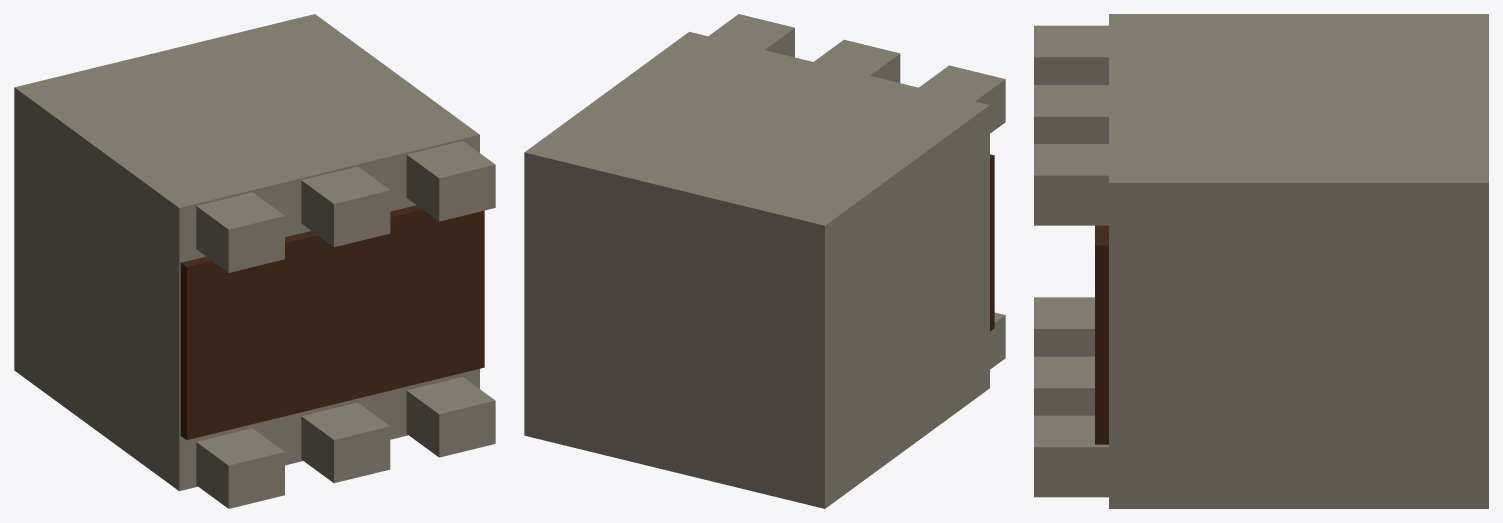
The model's file is SM_StoneWall.obj.
3 views of the same model, side by side, from view 1: azimuth 30°, elevation 25°; view 2: azimuth 150°, elevation 25°; view 3: azimuth 270°, elevation 25° (orthographic). The views are drawn at different scales.
Visible parts, largest first — view 1: SM_StoneWall; view 2: SM_StoneWall; view 3: SM_StoneWall.
Boxes of the visible parts, <box> form: SM_StoneWall: <box>14,14,495,508</box>; SM_StoneWall: <box>524,14,1005,508</box>; SM_StoneWall: <box>1034,14,1488,508</box>.
Size of the model in its own units: 400 by 360 by 455.
